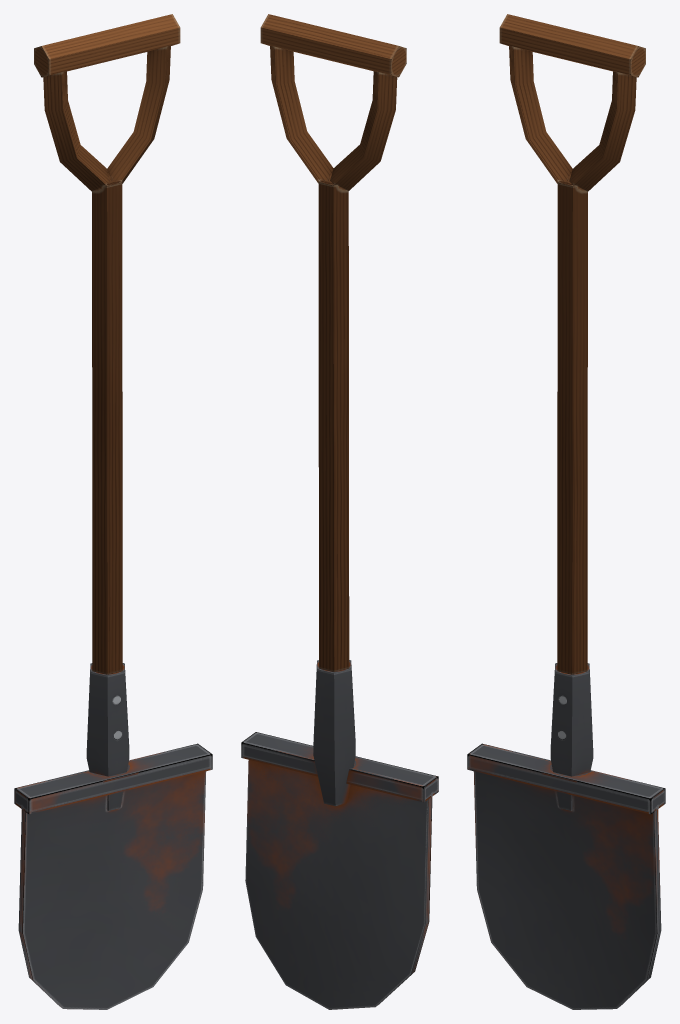
Rendered from Shovel_01.fbx.
3 views of the same model, side by side, from view 1: azimuth 30°, elevation 25°; view 2: azimuth 150°, elevation 25°; view 3: azimuth 330°, elevation 25° (orthographic).
Parts seen in each view (by area): view 1: Shovel_01; view 2: Shovel_01; view 3: Shovel_01.
Boxes of the visible parts, bbox=[...] form: Shovel_01: bbox=[14, 14, 212, 1009]; Shovel_01: bbox=[241, 14, 438, 1009]; Shovel_01: bbox=[467, 14, 665, 1009].
Bounding box in the file's own units: 0.224 × 1.14 × 0.0494.
1 material, 1 textured.
